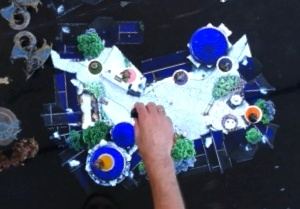blue: (211, 52, 237, 76)
green: (85, 57, 105, 78)
orange: (239, 102, 265, 126)
pink: (117, 64, 137, 85)
violet: (168, 66, 192, 88)
yellow: (91, 148, 118, 173)
